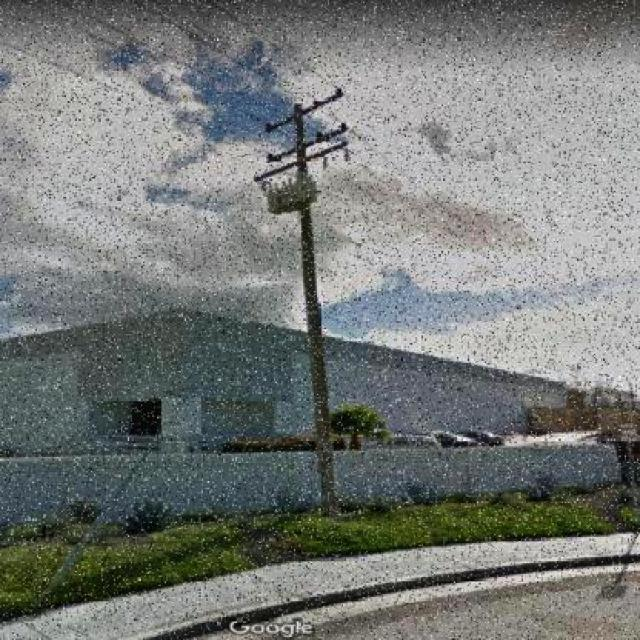crossarm: (253, 140, 351, 183), (265, 88, 345, 132), (266, 123, 352, 163)
pole: (292, 105, 340, 522)
transformer: (258, 171, 318, 215)
